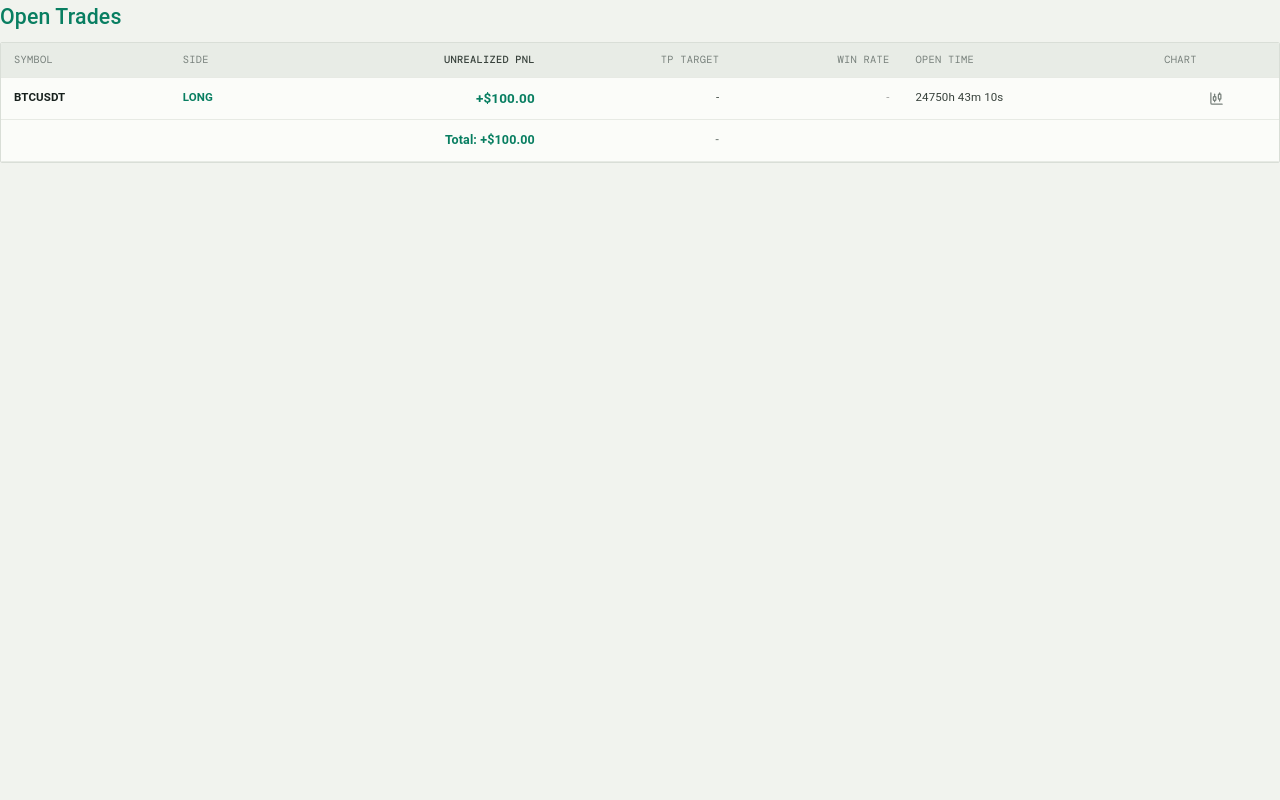
Scenario: OperationsTable › handles open trades mode
The image size is (1280, 800).
Check: the heading "Open Trades" is shown, box [0,0,122,34]
Check: the text "BTCUSDT" is shown, box [1,77,170,119]
What coordinates should you click on to do the following:
click the button named "View BTCUSDT chart"
I would click on:
 (1215, 98)
Its box is [1202,84,1229,112].
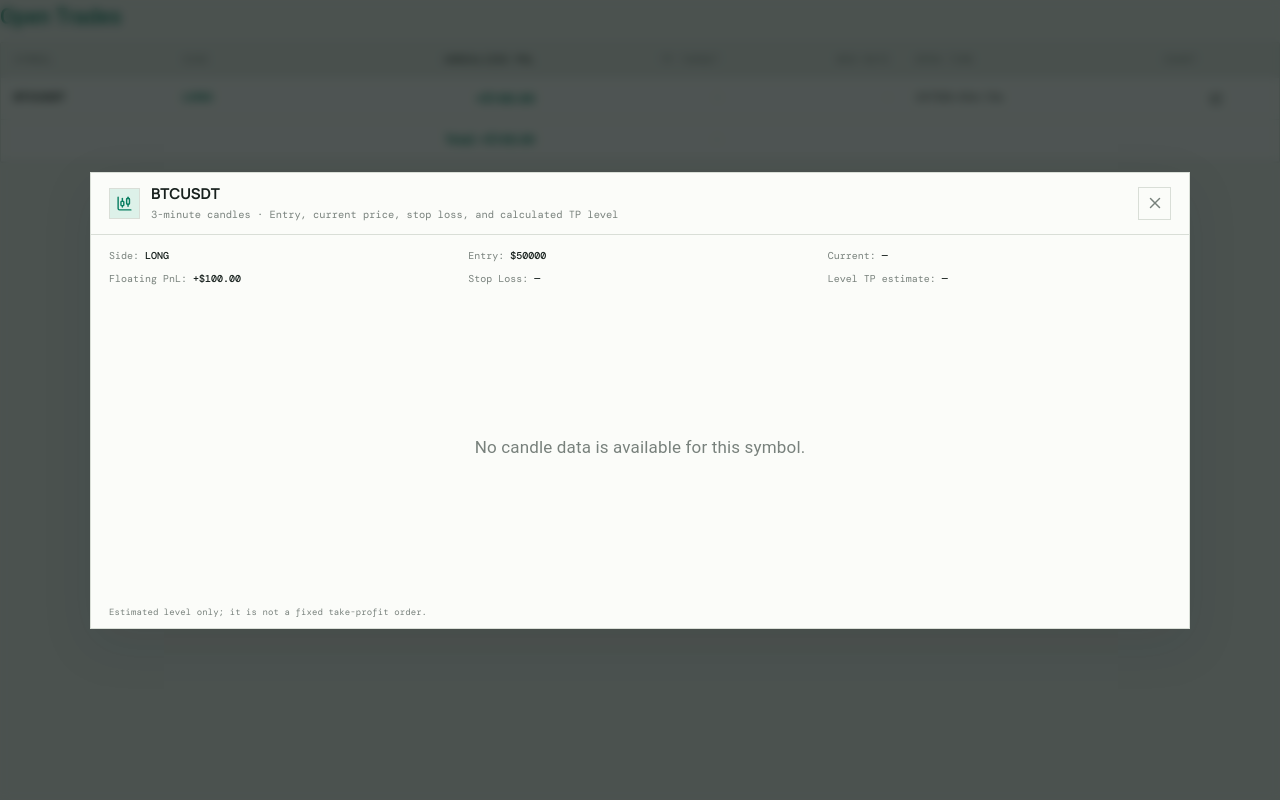
Check: the dialog "BTCUSDT" is shown, box [90,172,1190,628]
Check: the text "Entry:" is shown, box [468,248,546,262]
Check: the text "Floating PnL:" is shown, box [109,272,241,284]
What coordinates should you click on to do the following:
click the button named "Close chart"
I would click on:
 (1154, 203)
Its box is [1138,186,1171,220].
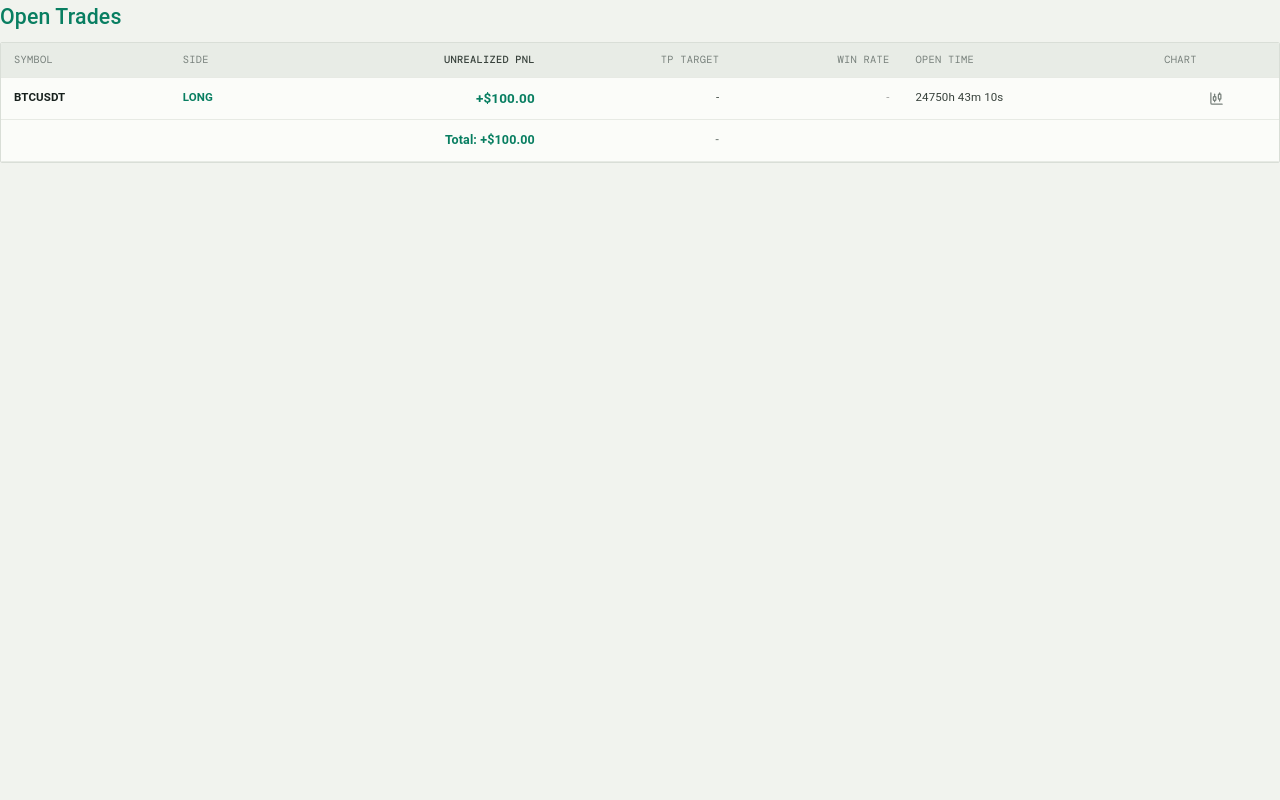
Check: the dialog is gone
